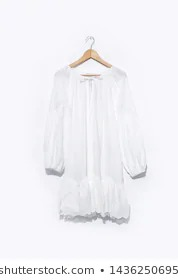S_blouse: (34, 61, 152, 223)
